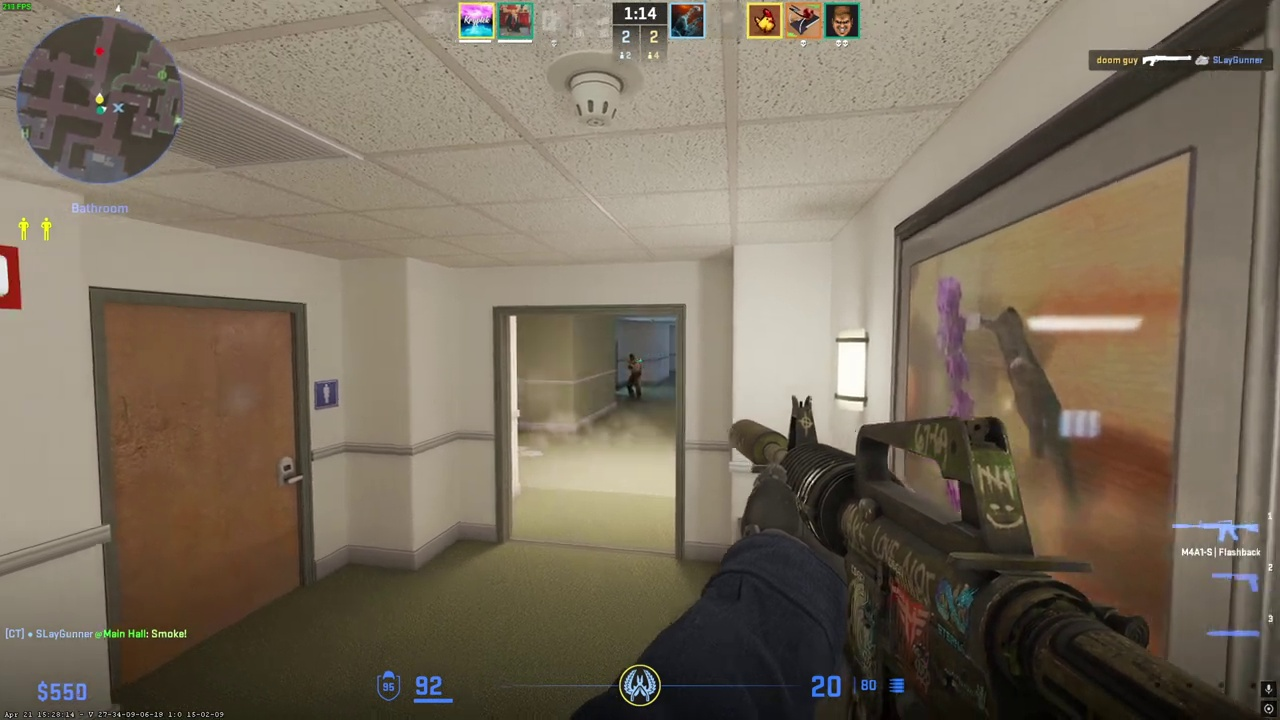Terrorist: (626, 353, 642, 400)
